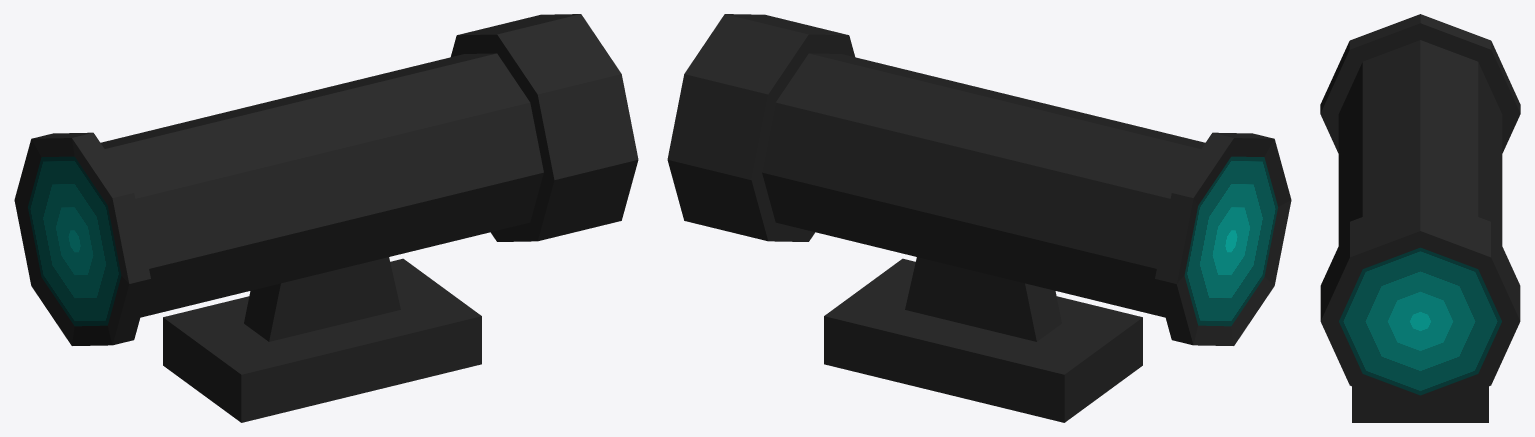
Rendered from Accessories_Scope_B.FBX.
The picture shows the model from 3 angles, left to right: view 1: azimuth 30°, elevation 25°; view 2: azimuth 150°, elevation 25°; view 3: azimuth 270°, elevation 25°; orthographic projection. The views are drawn at different scales.
Parts seen in each view (by area): view 1: Accessories_Scope_B; view 2: Accessories_Scope_B; view 3: Accessories_Scope_B.
Boxes of the visible parts, bbox=[...] form: Accessories_Scope_B: bbox=[14, 14, 638, 422]; Accessories_Scope_B: bbox=[667, 14, 1291, 422]; Accessories_Scope_B: bbox=[1320, 14, 1520, 422].
Bounding box in the file's own units: 54.59 × 29.5 × 21.32.
